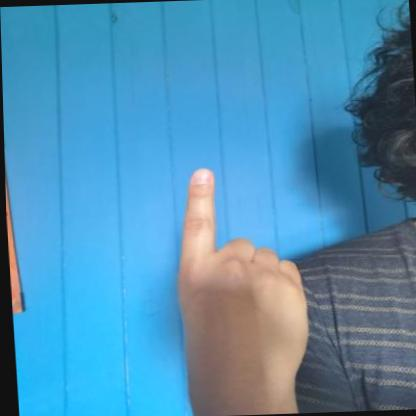T: (169, 163, 313, 387)
